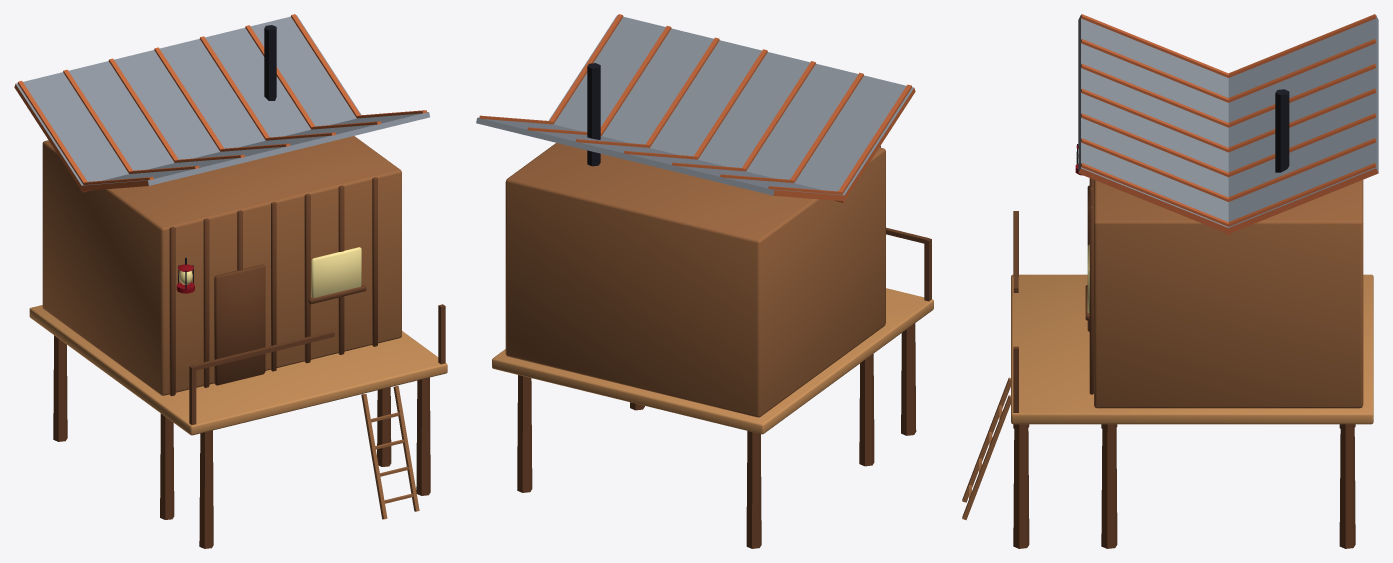
Rendered from StiltShack.fbx.
3 views of the same model, side by side, from view 1: azimuth 30°, elevation 25°; view 2: azimuth 150°, elevation 25°; view 3: azimuth 270°, elevation 25° (orthographic). The views are drawn at different scales.
Parts seen in each view (by area): view 1: StiltShack; view 2: StiltShack; view 3: StiltShack.
Part boxes in pixels (x1,y1,x2,y2): StiltShack: (14,14,447,548); StiltShack: (476,14,933,548); StiltShack: (962,14,1378,548).
Bounding box in the file's own units: 3.5 × 4.62 × 4.02.
Materials: 2 (2 with a texture image).
